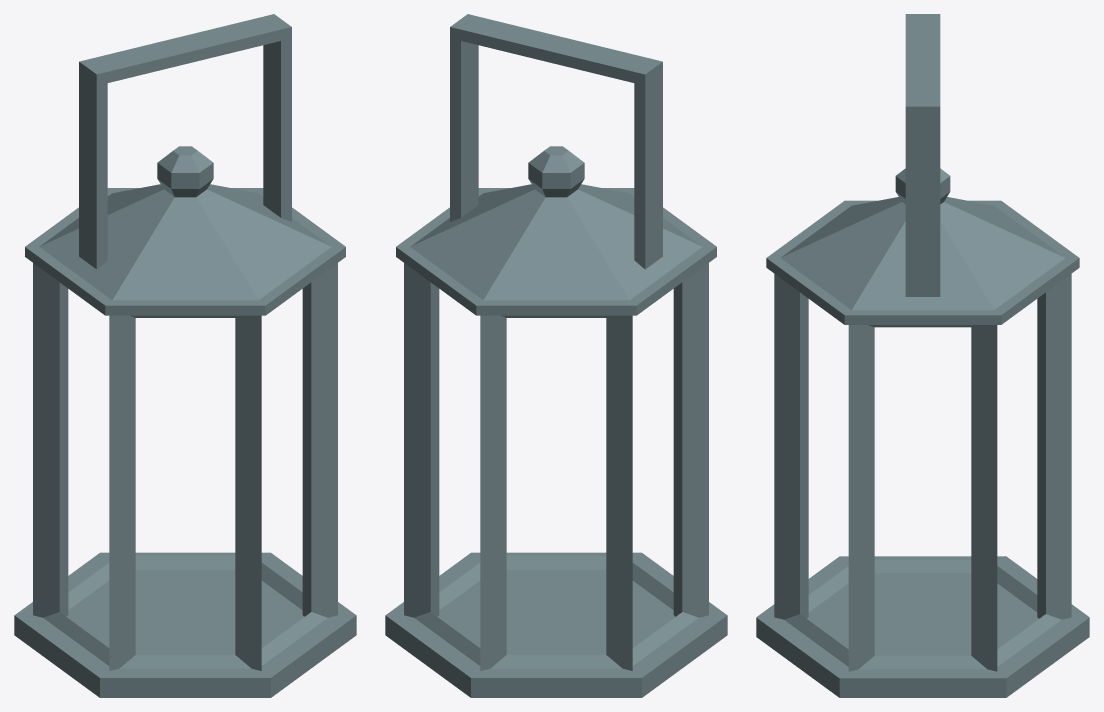
The model's file is Lantern.fbx.
3 views of the same model, side by side, from view 1: azimuth 30°, elevation 25°; view 2: azimuth 150°, elevation 25°; view 3: azimuth 270°, elevation 25° (orthographic). The views are drawn at different scales.
Visible parts, largest first — view 1: LanternGlass, LanternTop, LanternBottom, Handle; view 2: LanternGlass, LanternTop, LanternBottom, Handle; view 3: LanternGlass, LanternTop, LanternBottom, Handle.
Boxes of the visible parts, <box> form: LanternGlass: <box>33,263,337,670</box>; LanternTop: <box>25,146,345,315</box>; LanternBottom: <box>14,552,356,697</box>; Handle: <box>79,14,291,269</box>; LanternGlass: <box>404,263,708,670</box>; LanternTop: <box>396,146,716,315</box>; LanternBottom: <box>385,552,727,697</box>; Handle: <box>450,14,662,269</box>; LanternGlass: <box>774,274,1071,671</box>; LanternTop: <box>766,168,1079,324</box>; LanternBottom: <box>756,556,1089,697</box>; Handle: <box>905,14,940,296</box>.
Bounding box in the file's own units: 16.74 × 36.86 × 19.33.
Materials: 1 (1 with a texture image).
